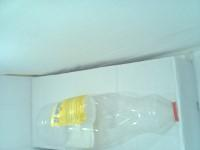bottle: (33, 92, 180, 150)
